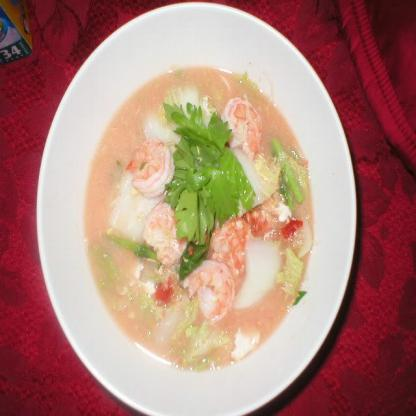Suki: (88, 72, 326, 380)
